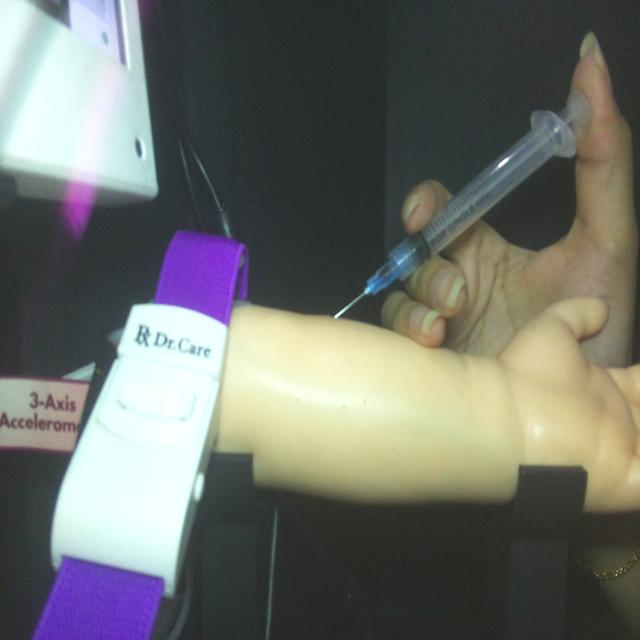30 degrees: (332, 85, 594, 322)
